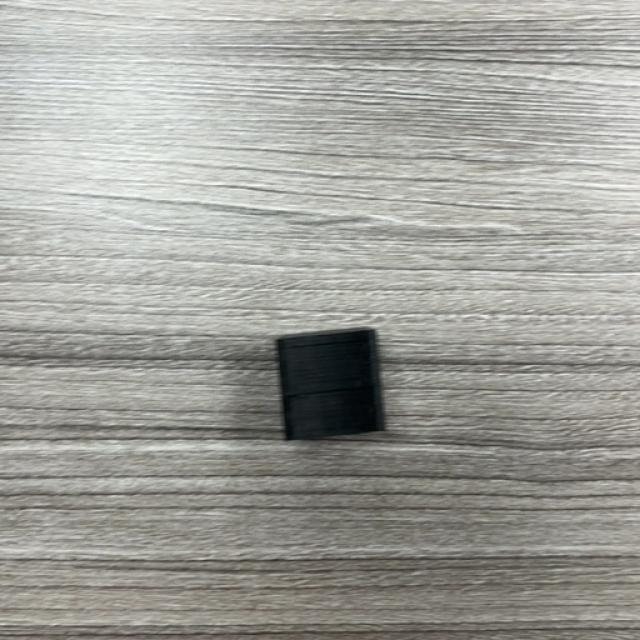Negro: (275, 329, 388, 441)
